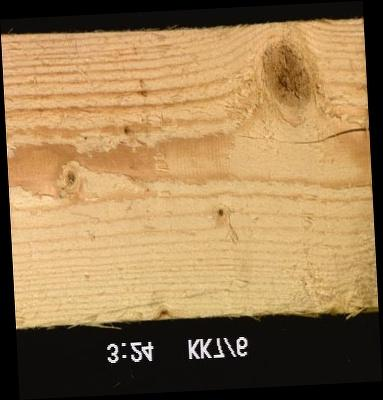small_knot: (59, 165, 80, 193), (154, 307, 173, 320), (214, 206, 225, 219)
sound_knot: (259, 41, 312, 112)
split: (293, 128, 369, 145)
